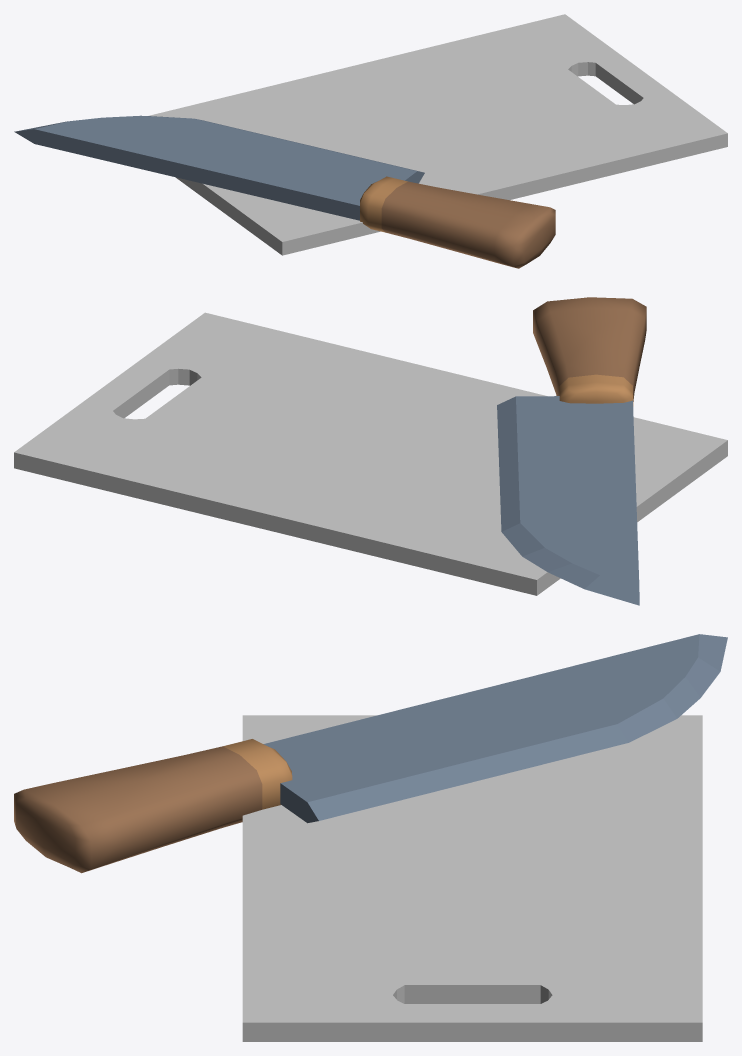
File: cutting-table.glb
3 views of the same model, one above another, from view 1: azimuth 30°, elevation 25°; view 2: azimuth 150°, elevation 25°; view 3: azimuth 270°, elevation 25° (orthographic). The views are drawn at different scales.
Visible parts, largest first — view 1: Environment_CuttingTable; view 2: Environment_CuttingTable; view 3: Environment_CuttingTable.
Part boxes in pixels (x1,y1,x2,y2): Environment_CuttingTable: (14,14,727,268); Environment_CuttingTable: (14,297,727,605); Environment_CuttingTable: (14,634,727,1041).
Bounding box in the file's own units: 2.1 × 0.1516 × 1.69.
